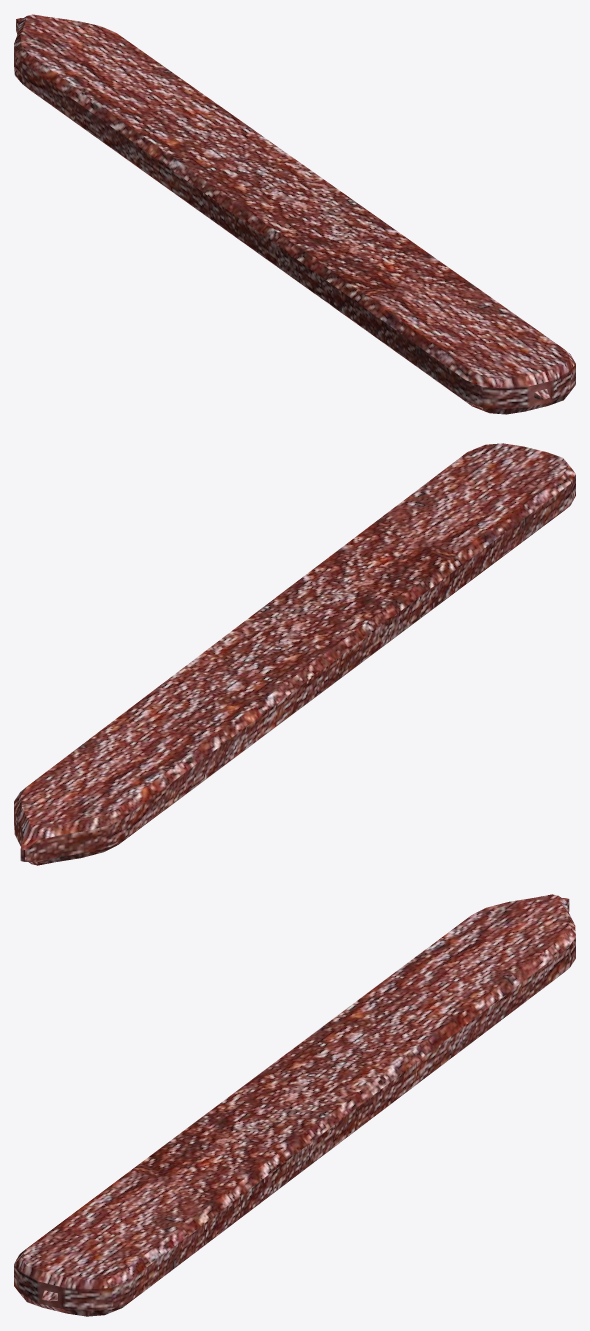
Rendered from SM_配餐区_肉蛋类_03.fbx.
3 renders of one model, top to bottom at view 1: azimuth 30°, elevation 25°; view 2: azimuth 150°, elevation 25°; view 3: azimuth 330°, elevation 25°, orthographic. The views are drawn at different scales.
Visible parts, largest first — view 1: SM_配餐区_肉蛋类_03; view 2: SM_配餐区_肉蛋类_03; view 3: SM_配餐区_肉蛋类_03.
Part boxes in pixels (x1=…): SM_配餐区_肉蛋类_03: x1=14, y1=14, x2=575, y2=414; SM_配餐区_肉蛋类_03: x1=14, y1=443, x2=575, y2=865; SM_配餐区_肉蛋类_03: x1=14, y1=894, x2=575, y2=1316.
Size of the model in its own units: 46.23 by 13.7 by 366.
